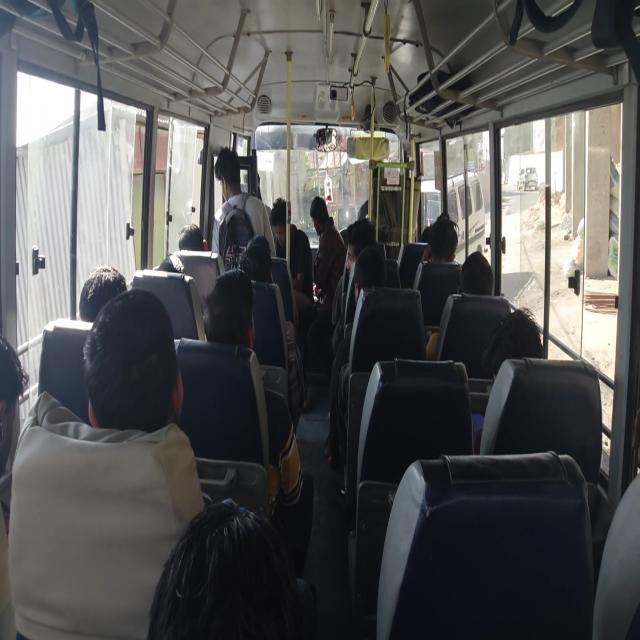person: (157, 513, 287, 640), (95, 298, 182, 426), (500, 310, 541, 398), (0, 351, 28, 463), (353, 248, 390, 315), (450, 236, 490, 294), (82, 259, 124, 313), (214, 266, 250, 326), (423, 220, 467, 262), (210, 155, 248, 203), (236, 238, 274, 283), (183, 207, 212, 248), (307, 202, 332, 244), (272, 201, 298, 238), (158, 243, 185, 270), (352, 225, 379, 251), (253, 225, 273, 252), (422, 215, 438, 244)
